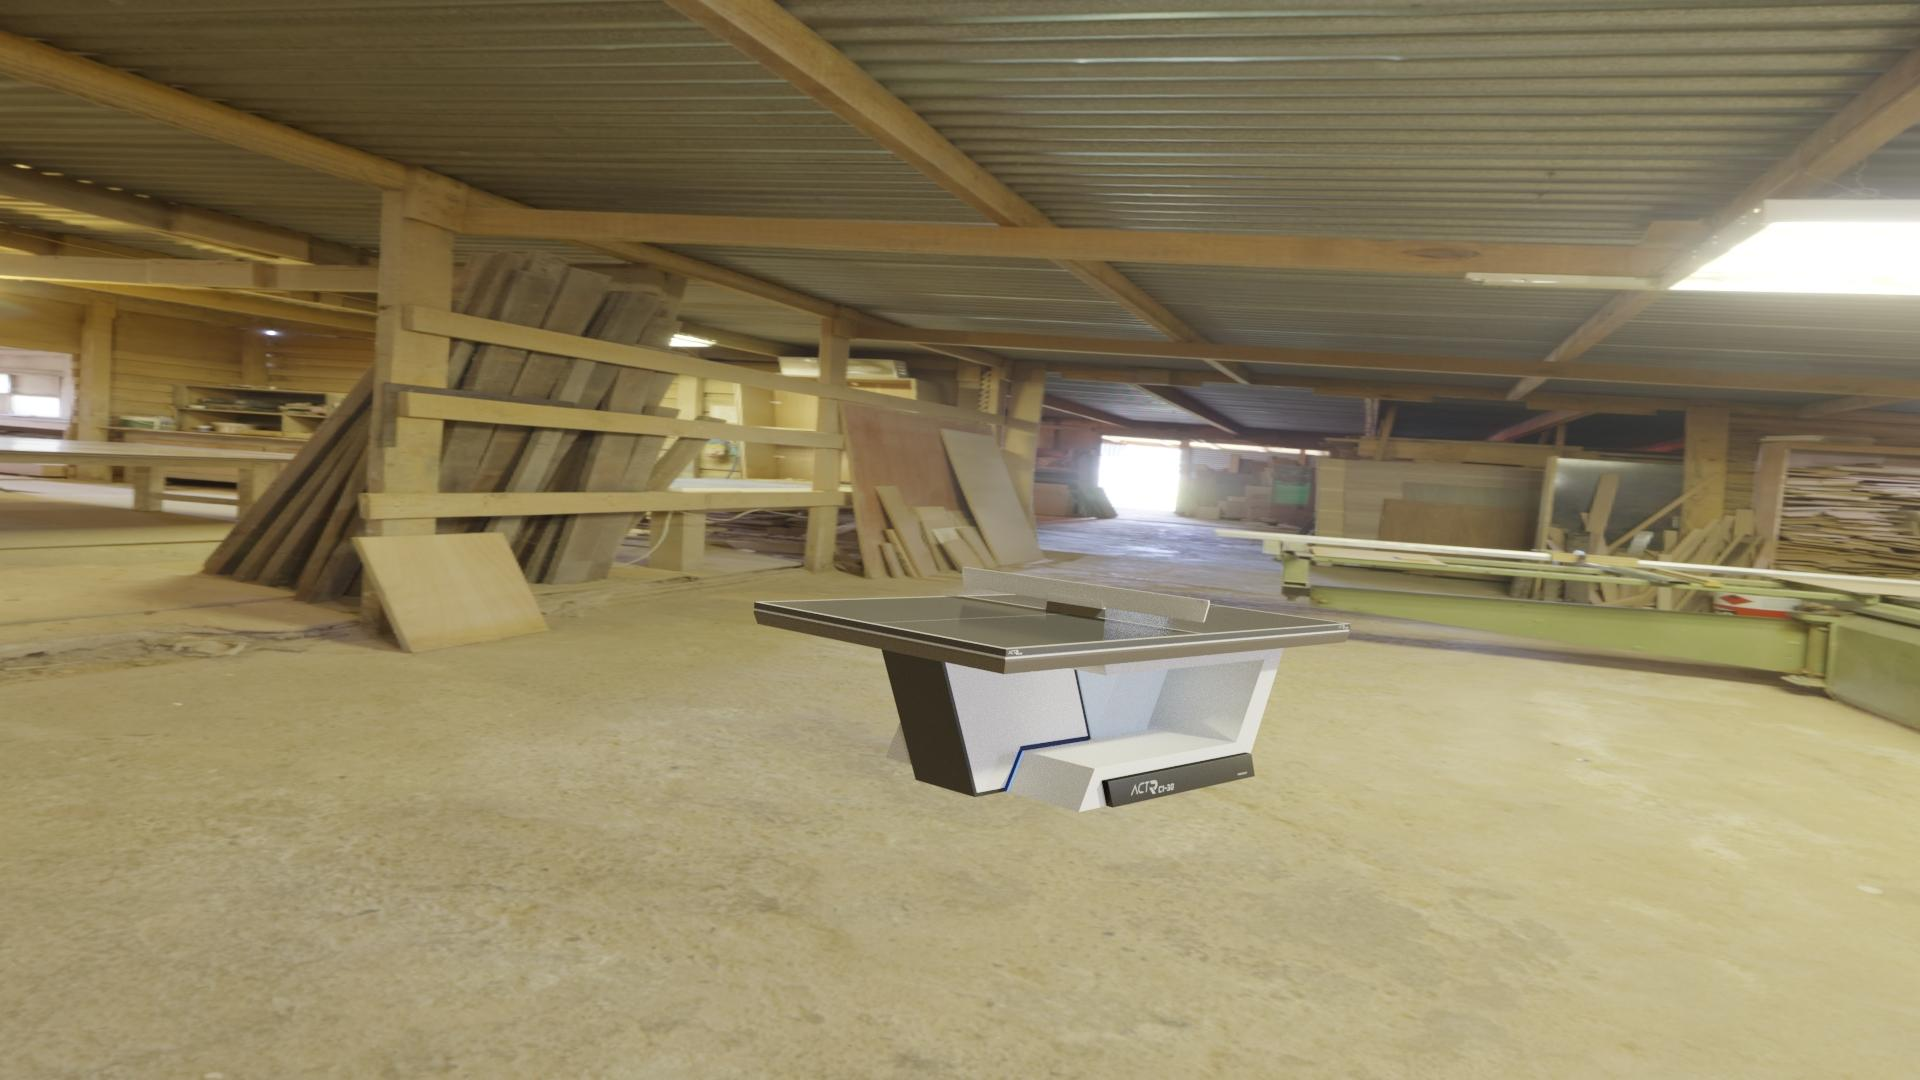table: (761, 592, 1345, 647)
